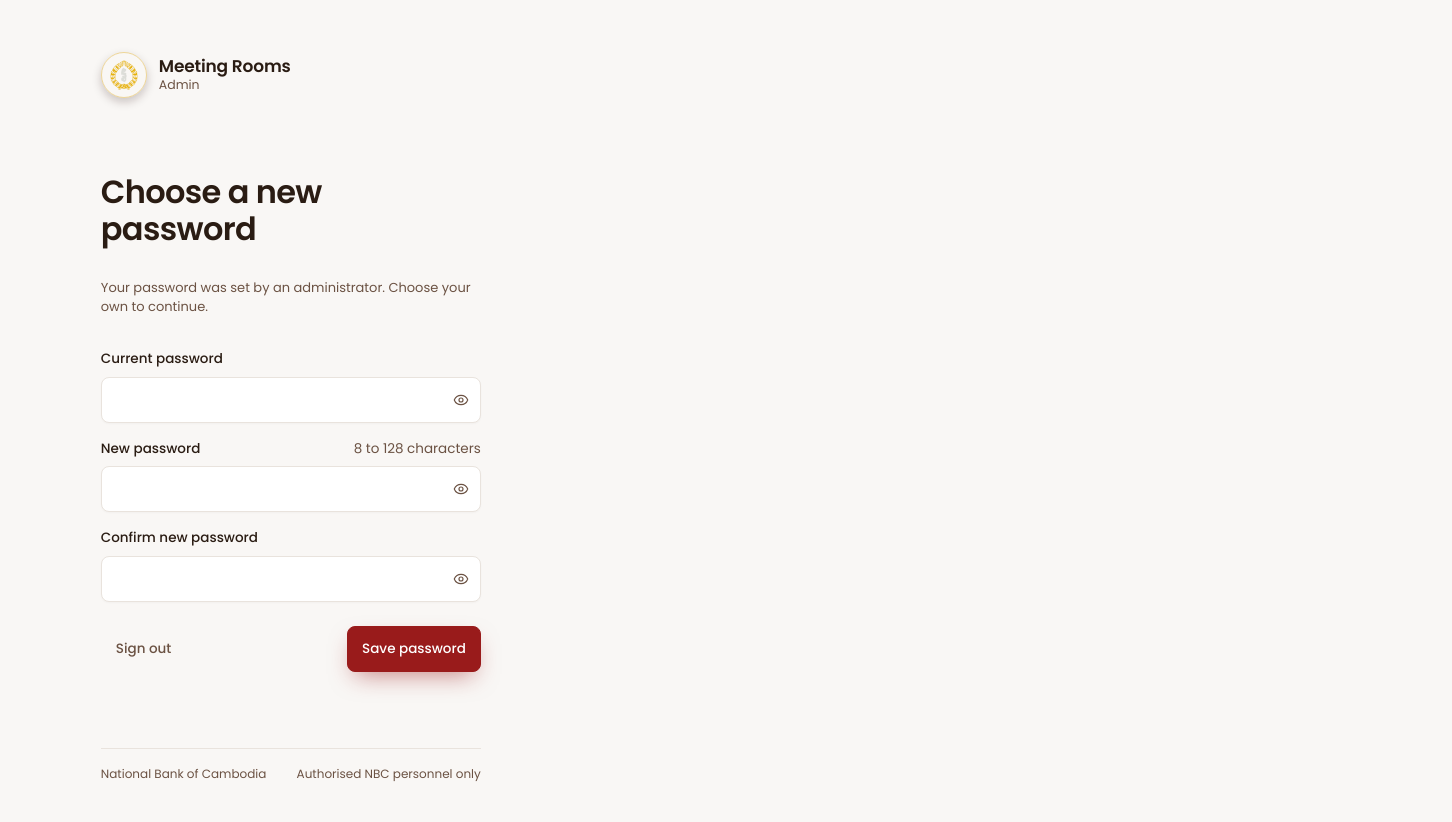
Scenario: ChangePasswordView › shows a wrong current password under "Current password"
The image size is (1452, 822).
Type "not it" into the password field with id "current_password" at (291, 400), box [101, 377, 481, 423]
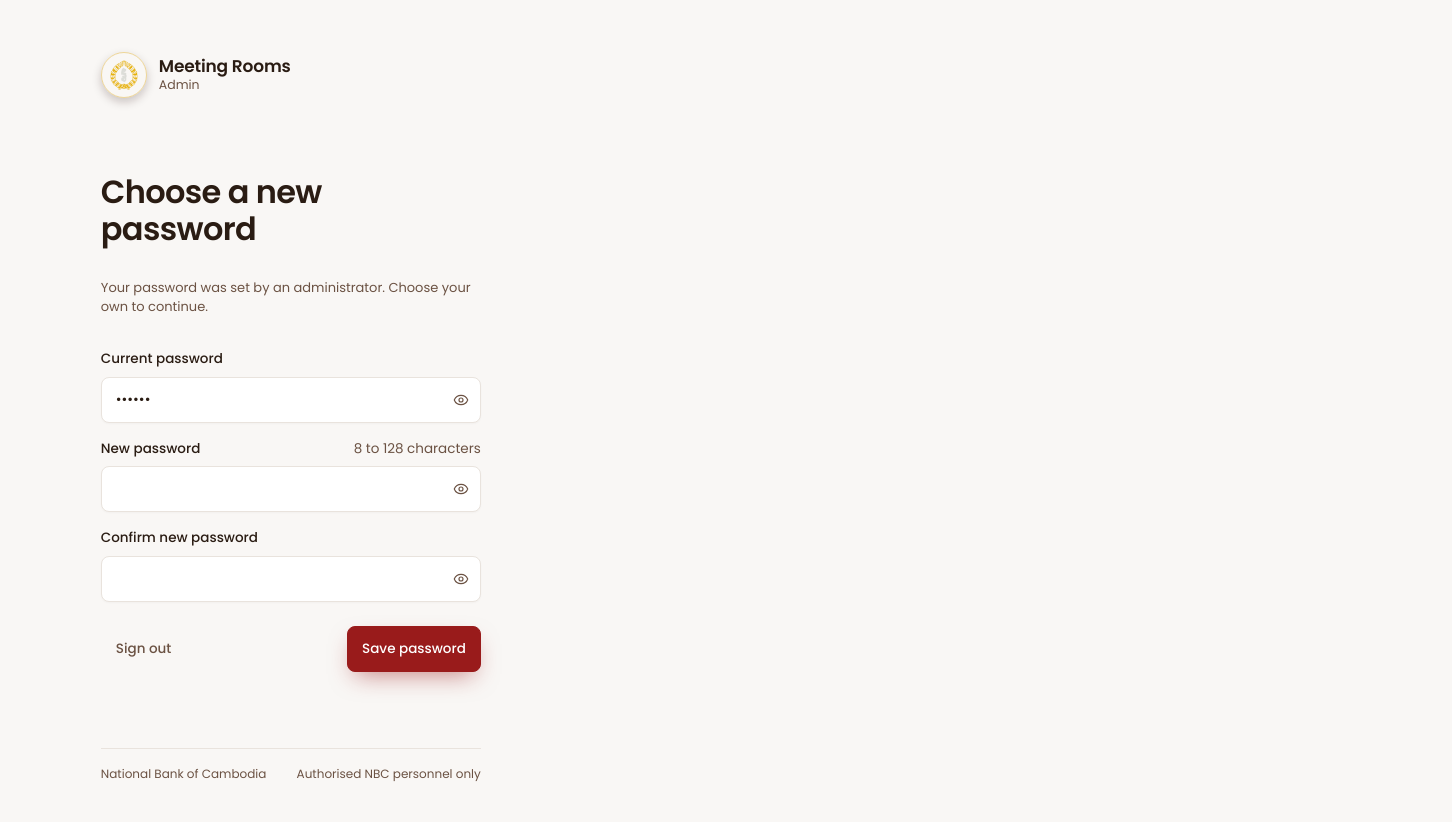
Type "a new password" into the password field with id "new_password" at (291, 489), box [101, 466, 481, 512]
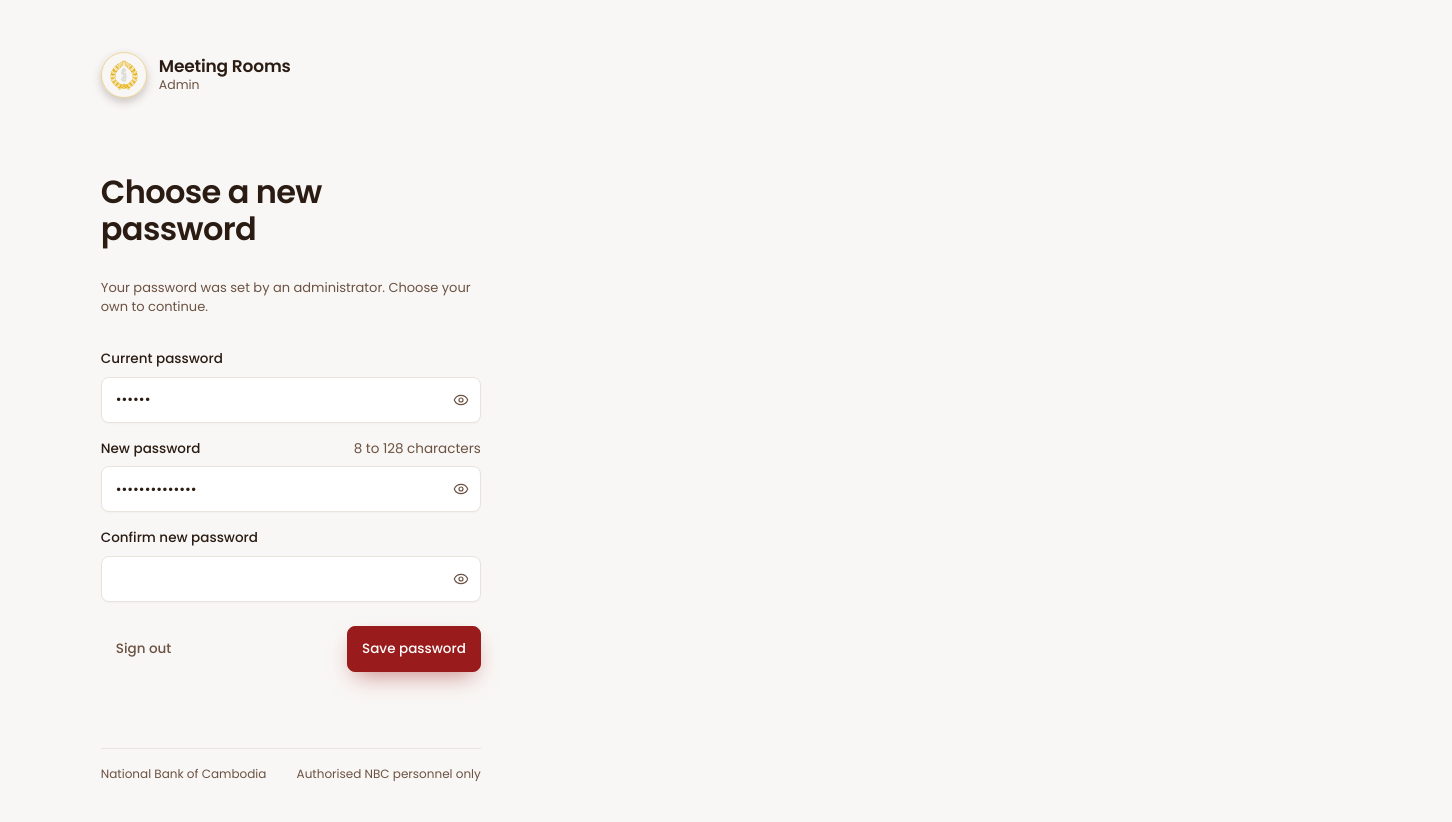
Type "a new password" into the password field with id "confirm_password" at (291, 579), box [101, 556, 481, 602]
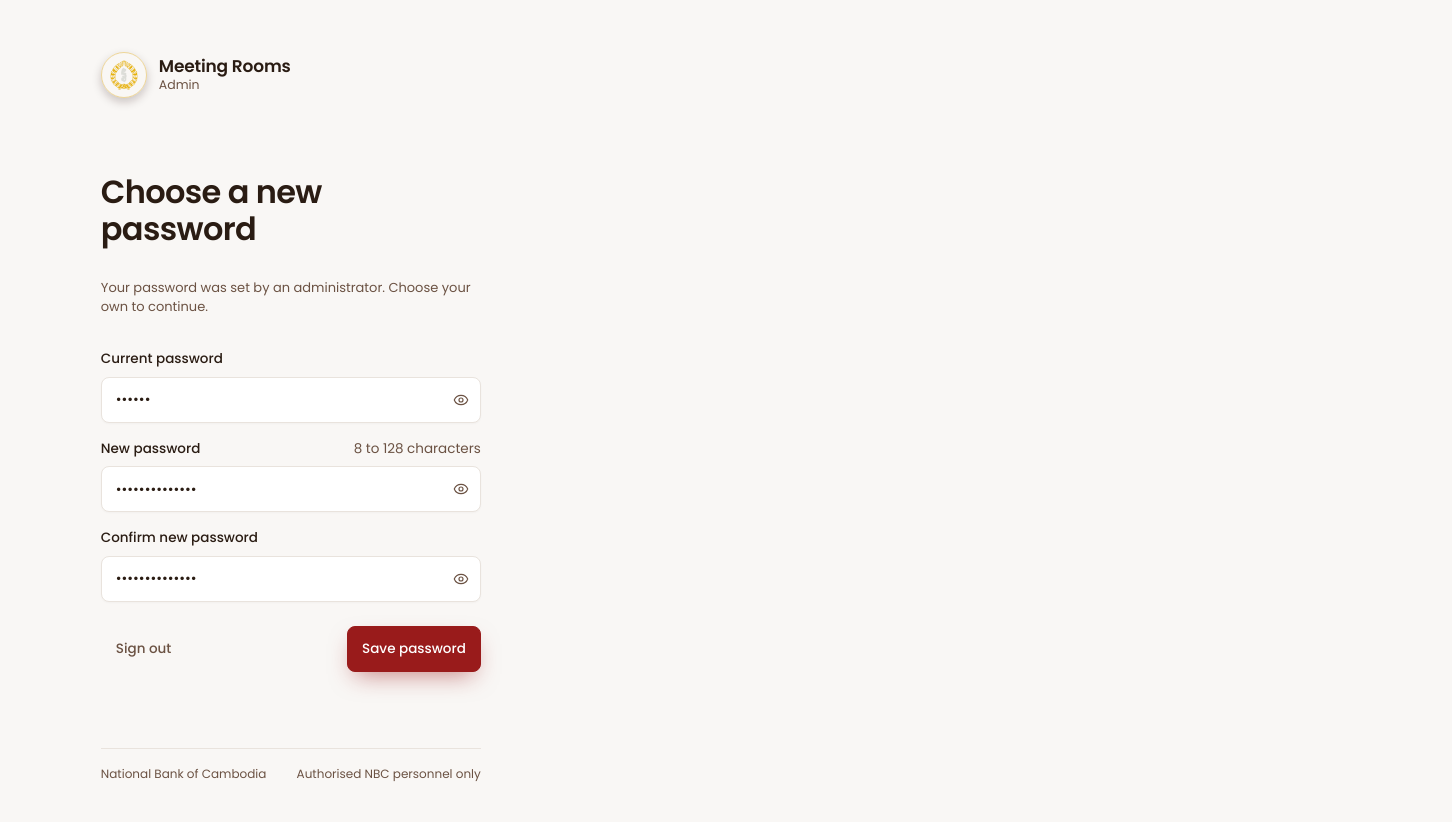
Submit the form, box [101, 349, 481, 672]
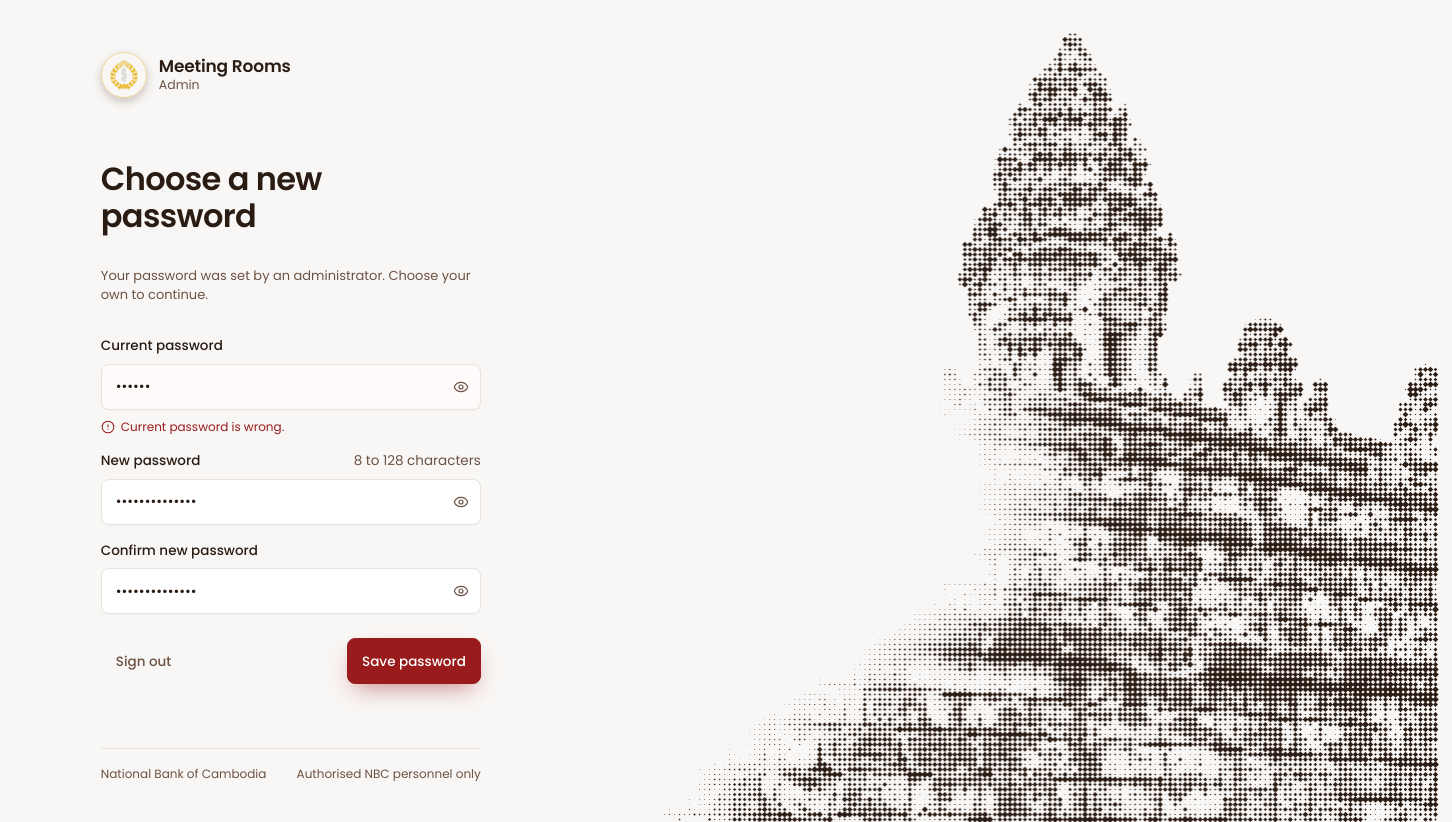
Result: the element with id "current_password-error" reads "Current password is wrong." at [121, 418, 284, 435]
